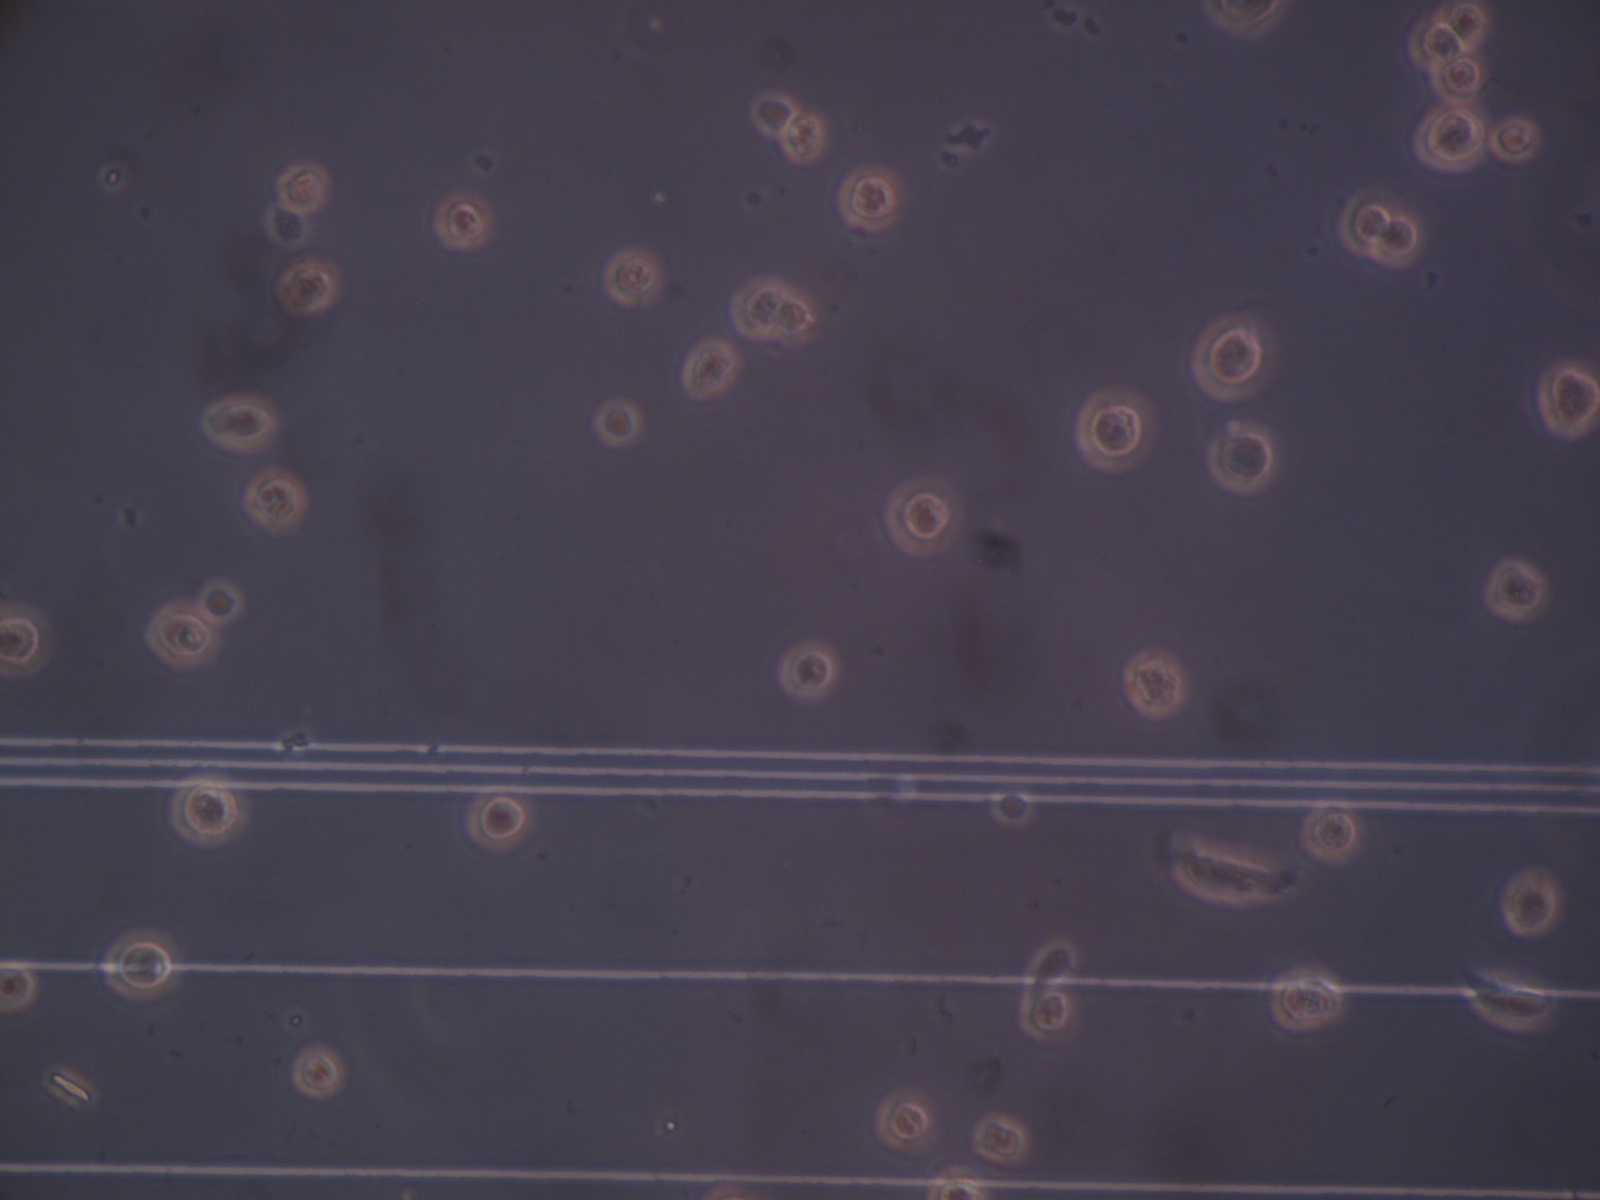hemo: (1187, 310, 1283, 405), (1075, 384, 1157, 476), (1173, 839, 1275, 908), (884, 471, 964, 557), (103, 924, 183, 1005), (169, 773, 248, 846), (1207, 421, 1283, 495), (1269, 963, 1346, 1034), (144, 601, 220, 671), (1410, 105, 1488, 173), (1471, 974, 1556, 1035), (837, 161, 905, 233), (465, 782, 533, 853), (198, 392, 278, 453), (1538, 363, 1600, 440), (1120, 652, 1189, 718), (872, 1085, 939, 1155), (1502, 865, 1561, 939), (1, 603, 54, 684), (242, 466, 307, 532), (777, 638, 842, 705), (276, 256, 340, 319), (1487, 560, 1550, 621), (602, 247, 664, 310), (1300, 800, 1361, 865), (729, 274, 787, 339), (682, 337, 740, 400), (433, 193, 493, 251), (1335, 193, 1390, 255), (1427, 55, 1492, 106), (971, 1113, 1028, 1170), (275, 158, 329, 216), (290, 1044, 345, 1099), (1018, 989, 1071, 1046), (1204, 1, 1285, 38), (1406, 18, 1465, 67), (1372, 216, 1426, 267), (1432, 1, 1489, 49), (593, 397, 644, 449), (1488, 120, 1545, 163), (197, 575, 243, 624), (781, 112, 826, 163), (779, 287, 818, 345), (750, 89, 796, 137), (929, 1165, 986, 1200), (1, 961, 37, 1018), (991, 787, 1031, 824)
